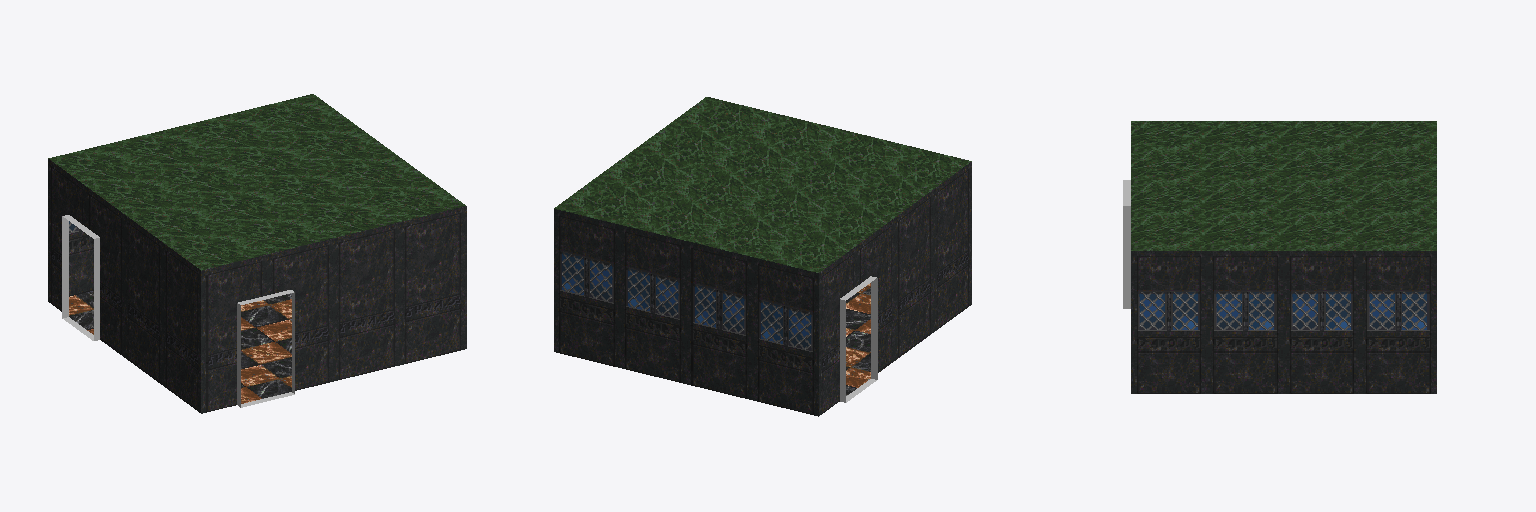
3 renders of one model, left to right at view 1: azimuth 30°, elevation 25°; view 2: azimuth 150°, elevation 25°; view 3: azimuth 270°, elevation 25°, orthographic.
Parts seen in each view (by area): view 1: model34200-node_model34200; view 2: model34200-node_model34200; view 3: model34200-node_model34200.
Part boxes in pixels (x1,y1,x2,y2): model34200-node_model34200: (48,94,466,413); model34200-node_model34200: (554,97,971,416); model34200-node_model34200: (1123,121,1436,393).
Size of the model in its own units: 6.25 by 3.15 by 6.25.
5 materials, 4 textured.